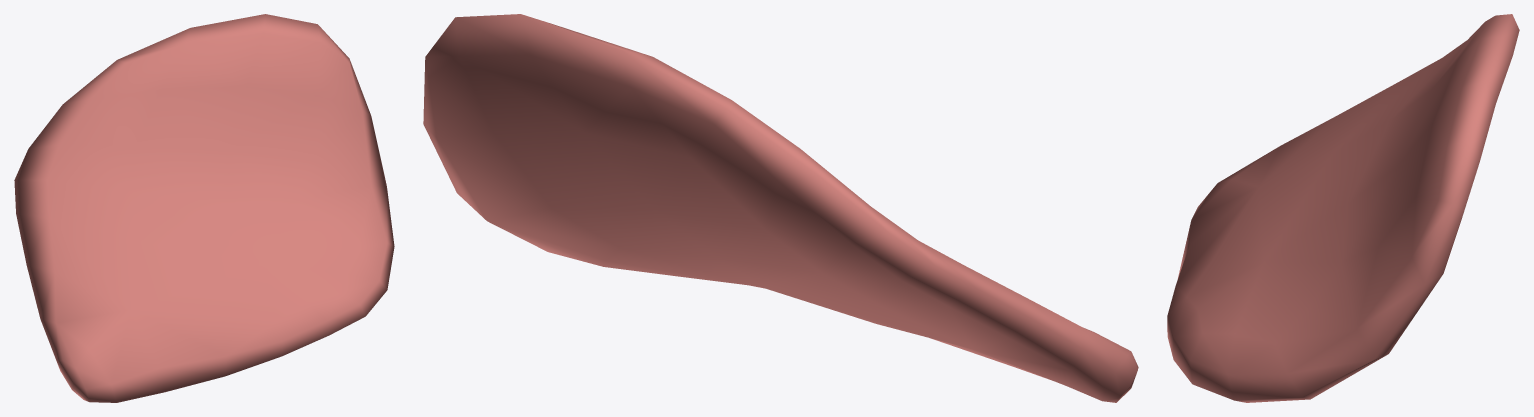
3 renders of one model, left to right at view 1: azimuth 30°, elevation 25°; view 2: azimuth 150°, elevation 25°; view 3: azimuth 270°, elevation 25°, orthographic. The views are drawn at different scales.
Visible parts, largest first — view 1: ZA_999959fb7481ad0a; view 2: ZA_999959fb7481ad0a; view 3: ZA_999959fb7481ad0a.
Part boxes in pixels (x1=…): ZA_999959fb7481ad0a: x1=14, y1=14, x2=394, y2=402; ZA_999959fb7481ad0a: x1=423, y1=14, x2=1138, y2=402; ZA_999959fb7481ad0a: x1=1167, y1=14, x2=1519, y2=402.
Bounding box in the file's own units: 0.00515 × 0.00325 × 0.00304.
